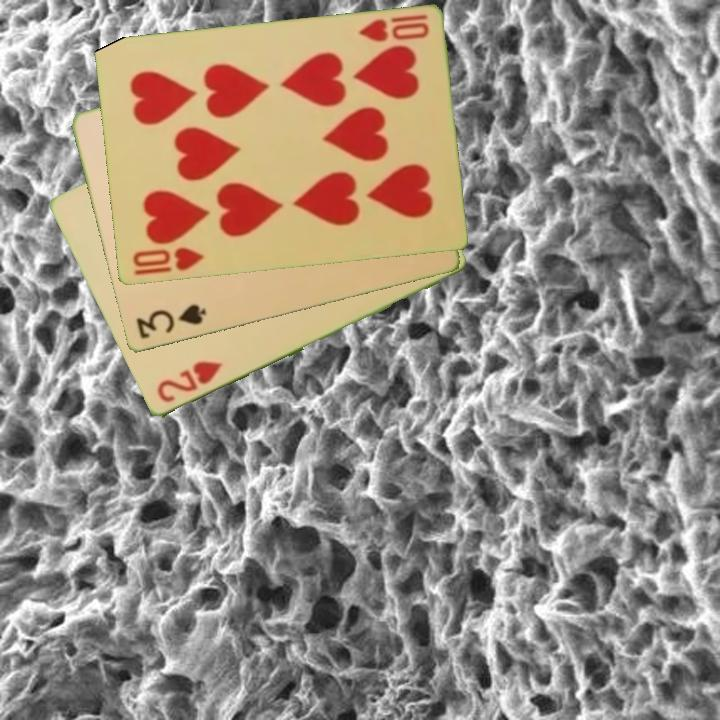10h: (129, 244, 206, 279), (355, 11, 432, 46)
2h: (153, 358, 225, 406)
3s: (132, 301, 209, 342)
